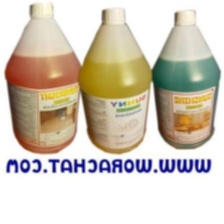cleaning_solution: (0, 0, 83, 156), (74, 5, 156, 156), (149, 7, 221, 152)
